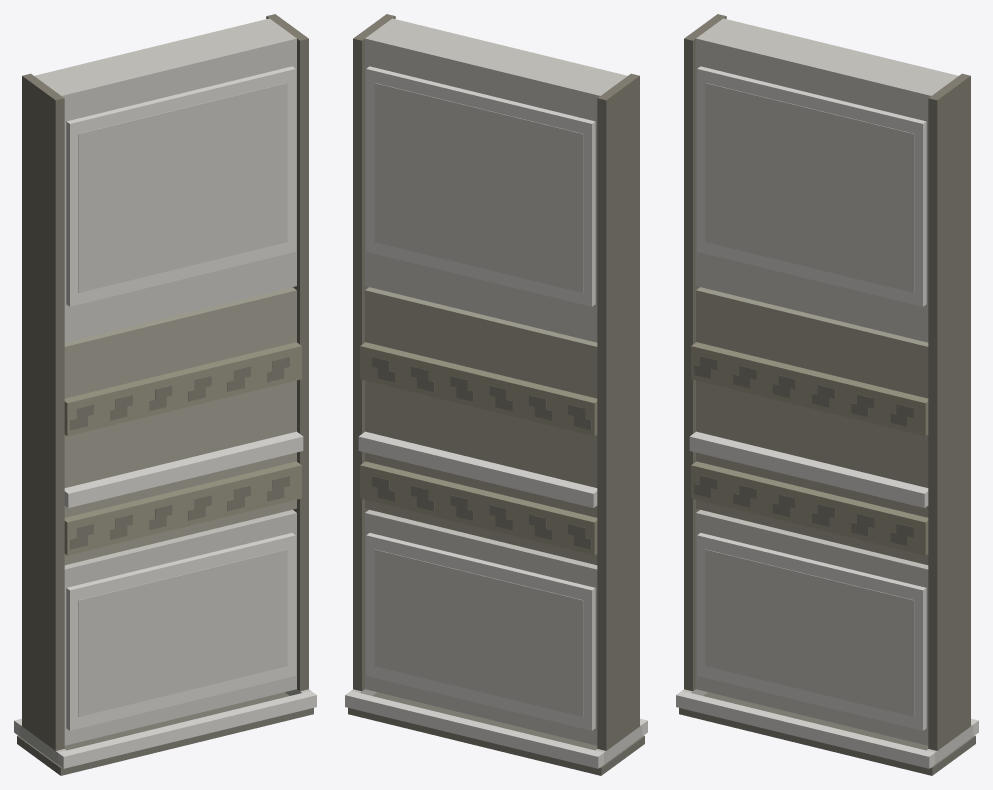
Rendered from CMU3DWhiteAlmayerPodDoorCloud.glb.
The picture shows the model from 3 angles, left to right: view 1: azimuth 30°, elevation 25°; view 2: azimuth 150°, elevation 25°; view 3: azimuth 330°, elevation 25°; orthographic projection.
Parts seen in each view (by area): view 1: recessed pale armor face (×2), middle drive slat, left leaf runner, upper armor slat, white inset rim (×2), gray hazard band (×2), lower armor slat, right leaf runner, double pale cross rail, front white threshold rim, sunken floor pocket; view 2: recessed pale armor face (×2), middle drive slat, left leaf runner, upper armor slat, white inset rim (×2), gray hazard band (×2), lower armor slat, right leaf runner, double pale cross rail, rear white threshold rim, sunken floor pocket; view 3: recessed pale armor face (×2), middle drive slat, right leaf runner, upper armor slat, white inset rim (×2), gray hazard band (×2), lower armor slat, left leaf runner, double pale cross rail, front white threshold rim, sunken floor pocket.
Boxes of the visible parts, x1,y1,x2,y2 form: recessed pale armor face (×2): (78, 83, 287, 716); middle drive slat: (64, 287, 296, 565); left leaf runner: (22, 73, 64, 750); upper armor slat: (34, 18, 296, 342); white inset rim (×2): (66, 66, 295, 730); gray hazard band (×2): (64, 342, 301, 555); lower armor slat: (64, 510, 296, 745); right leaf runner: (266, 14, 308, 691); double pale cross rail: (64, 431, 303, 507); front white threshold rim: (58, 691, 316, 768); sunken floor pocket: (17, 692, 313, 775); recessed pale armor face (×2): (374, 83, 583, 716); middle drive slat: (365, 287, 597, 565); left leaf runner: (597, 73, 639, 750); upper armor slat: (365, 18, 627, 342); white inset rim (×2): (366, 66, 595, 730); gray hazard band (×2): (360, 342, 597, 555); lower armor slat: (365, 510, 597, 745); right leaf runner: (353, 14, 395, 691); double pale cross rail: (358, 431, 597, 507); rear white threshold rim: (345, 691, 603, 768); sunken floor pocket: (348, 692, 644, 775); recessed pale armor face (×2): (705, 83, 914, 716); middle drive slat: (696, 287, 928, 565); right leaf runner: (928, 73, 970, 750); upper armor slat: (696, 18, 958, 342); white inset rim (×2): (697, 66, 926, 730); gray hazard band (×2): (691, 342, 928, 555); lower armor slat: (696, 510, 928, 745); left leaf runner: (684, 14, 726, 691); double pale cross rail: (689, 431, 928, 507); front white threshold rim: (676, 691, 934, 768); sunken floor pocket: (679, 692, 975, 775).
Bounding box in the file's own units: 1 × 2.54 × 0.34.
